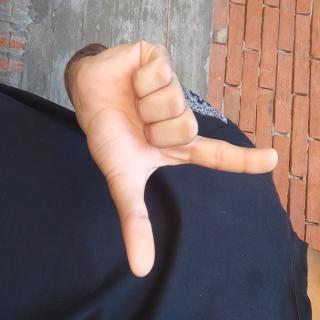LAAM: (20, 51, 214, 320)
